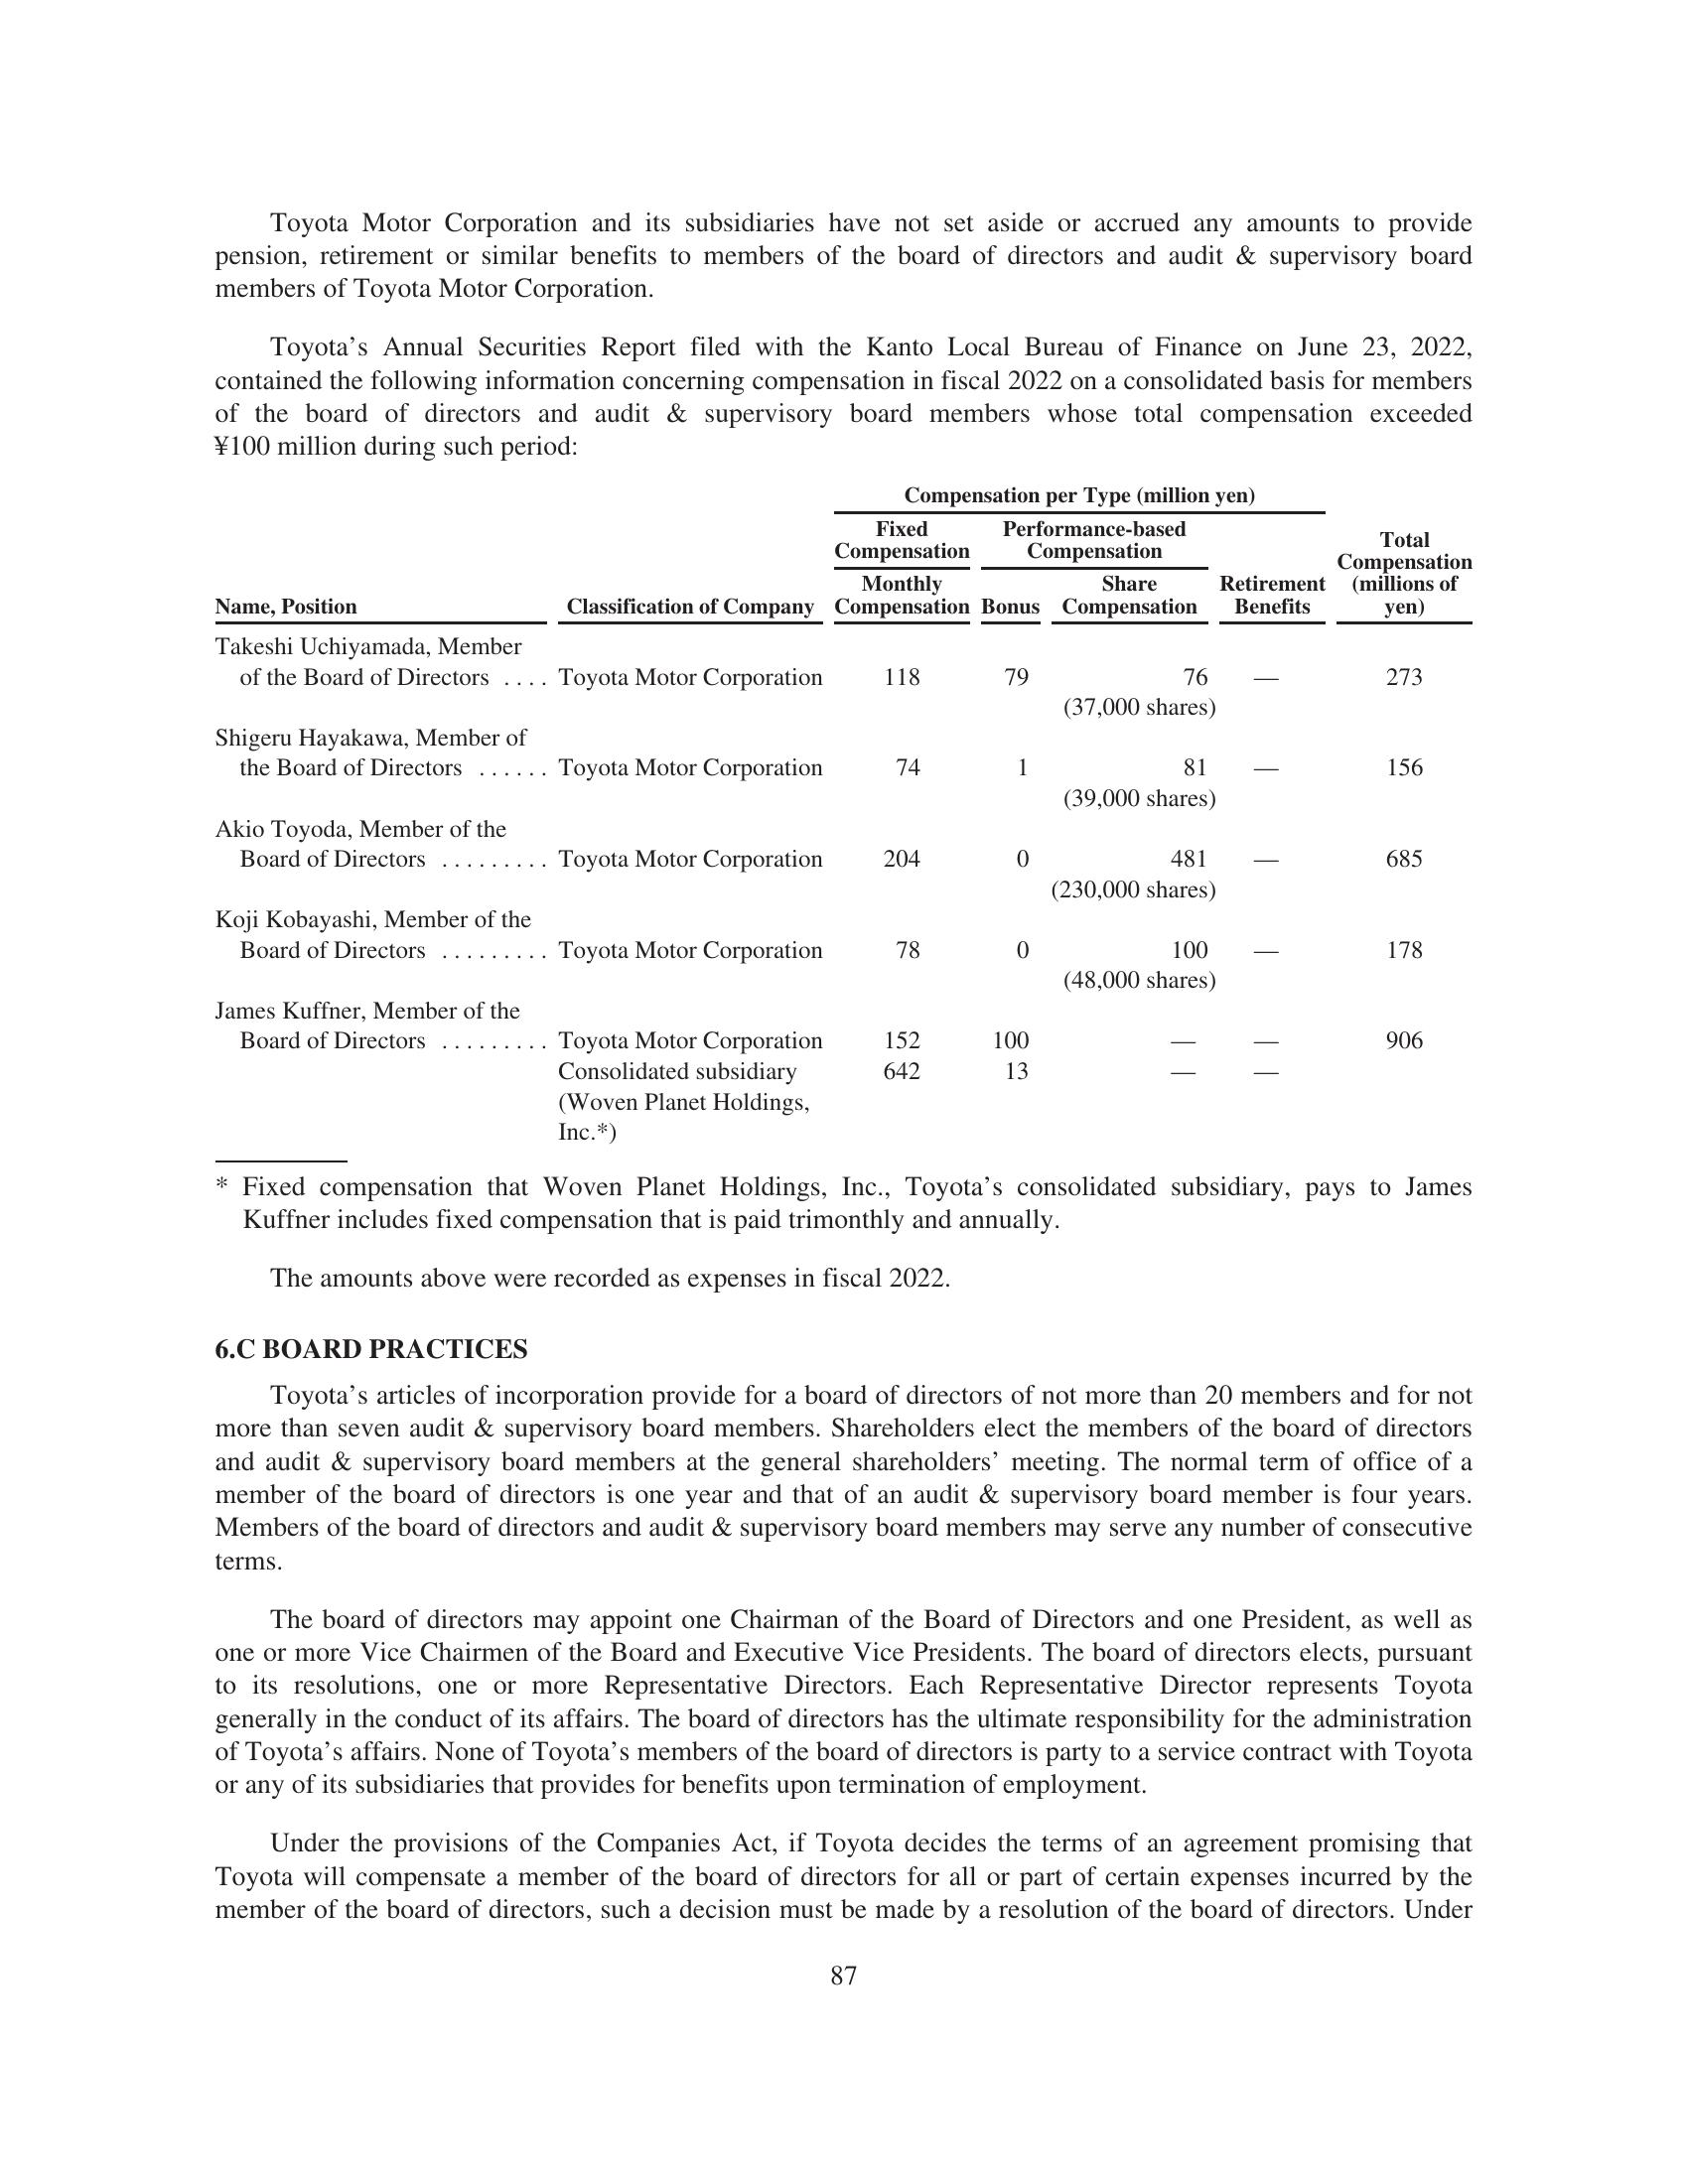Footer: (0, 1946, 1688, 2184)
Header: (0, 0, 1688, 152)
Table: (167, 473, 1509, 1140)
